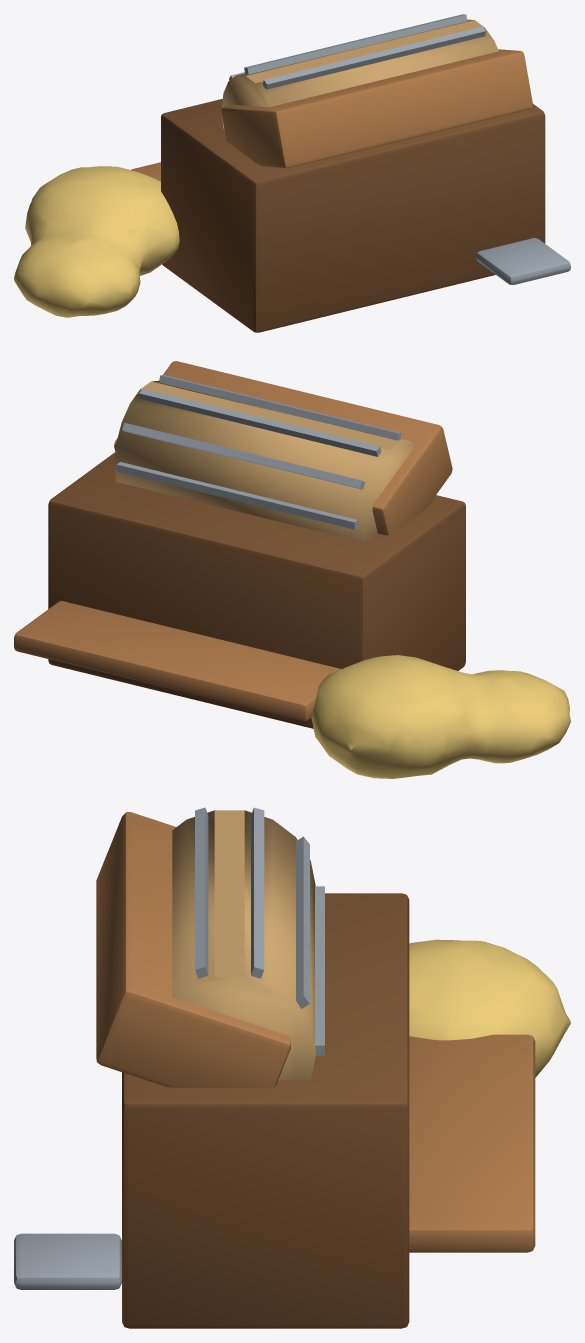
Rendered from thresher.glb.
3 renders of one model, top to bottom at view 1: azimuth 30°, elevation 25°; view 2: azimuth 150°, elevation 25°; view 3: azimuth 270°, elevation 25°, orthographic. The views are drawn at different scales.
Parts seen in each view (by area): view 1: ThresherBase, StrawPile, DrumMesh; view 2: ThresherBase, DrumMesh, StrawPile; view 3: ThresherBase, DrumMesh, StrawPile.
Boxes of the visible parts, x1,y1,x2,y2 form: ThresherBase: (131, 49, 570, 332); StrawPile: (14, 166, 179, 317); DrumMesh: (222, 14, 498, 168); ThresherBase: (14, 361, 465, 728); DrumMesh: (114, 375, 415, 542); StrawPile: (311, 655, 570, 778); ThresherBase: (14, 812, 535, 1328); DrumMesh: (172, 807, 324, 1080); StrawPile: (409, 939, 570, 1077).
Bounding box in the file's own units: 2.16 × 1.04 × 1.55.
